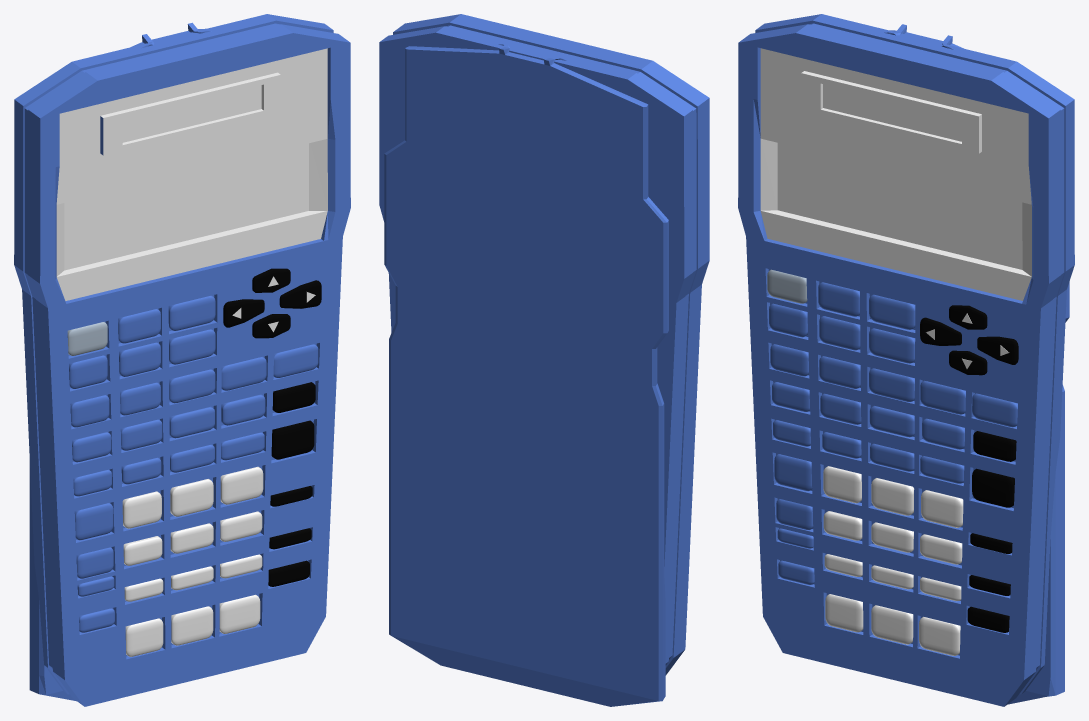
Rendered from calculator.fbx.
The picture shows the model from 3 angles, left to right: view 1: azimuth 30°, elevation 25°; view 2: azimuth 150°, elevation 25°; view 3: azimuth 330°, elevation 25°; orthographic projection.
Parts seen in each view (by area): view 1: Calc, back_cover, pCube25, pCube5, pCube24, pCube12, pCube13, pCube38, pCube37, pCube26, pCube11, pCube31 (+33 smaller); view 2: back_cover, Calc; view 3: Calc, back_cover, pCube25, pCube5, pCube24, pCube12, pCube13, pCube38, pCube37, pCube26, pCube11, pCube33 (+33 smaller).
Part boxes in pixels (x1,y1,x2,y2): Calc: (14, 14, 350, 706); back_cover: (29, 22, 211, 701); pCube25: (171, 606, 213, 645); pCube5: (271, 420, 314, 459); pCube24: (219, 594, 260, 633); pCube12: (170, 479, 213, 516); pCube13: (220, 466, 263, 504); pCube38: (168, 295, 215, 330); pCube37: (169, 329, 215, 364); pCube26: (125, 618, 163, 656); pCube11: (122, 491, 161, 528); pCube31: (169, 369, 215, 403); back_cover: (384, 44, 668, 706); Calc: (379, 14, 709, 675); Calc: (738, 14, 1074, 706); back_cover: (884, 24, 1069, 704); pCube25: (871, 605, 913, 644); pCube5: (972, 468, 1014, 507); pCube24: (919, 616, 960, 655); pCube12: (871, 478, 914, 515); pCube13: (921, 490, 963, 527); pCube38: (869, 294, 915, 329); pCube37: (869, 328, 915, 363); pCube26: (825, 594, 863, 632); pCube11: (823, 466, 861, 503); pCube33: (972, 393, 1017, 427).
Size of the model in its own units: 6.9 by 13.7 by 1.29.
